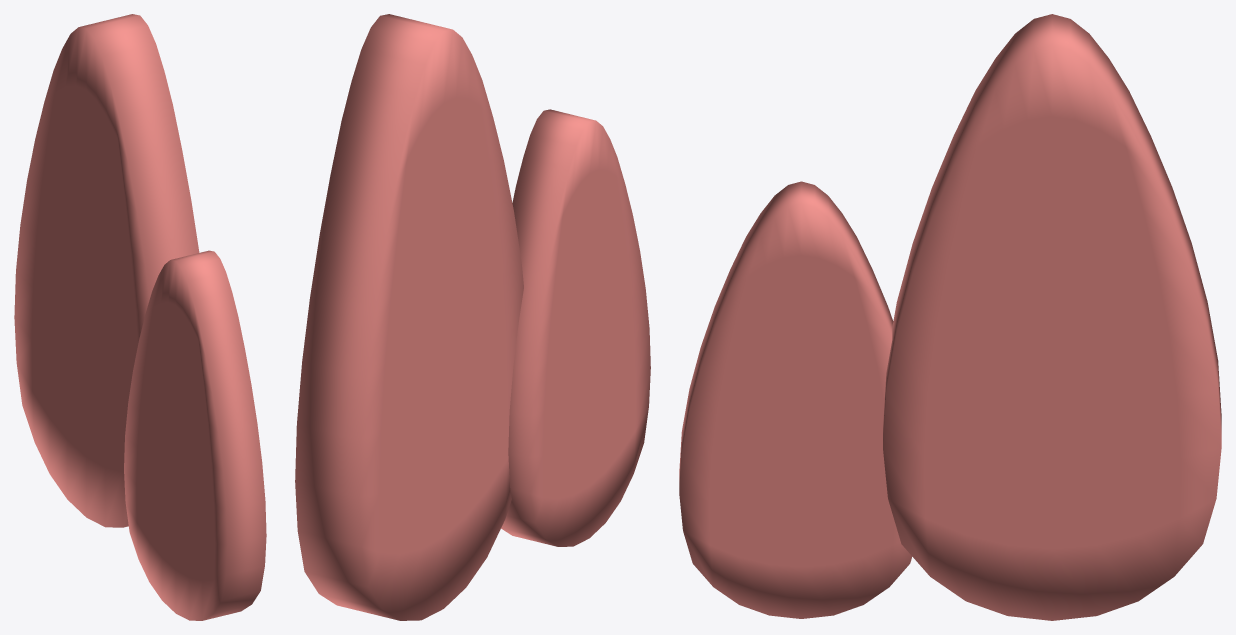
File: herbe-automne.gltf
The picture shows the model from 3 angles, left to right: view 1: azimuth 30°, elevation 25°; view 2: azimuth 150°, elevation 25°; view 3: azimuth 270°, elevation 25°; orthographic projection. The views are drawn at different scales.
Visible parts, largest first — view 1: Plane.004, Plane.005; view 2: Plane.004, Plane.005; view 3: Plane.004, Plane.005.
Boxes of the visible parts, <box> form: Plane.004: <box>14,14,199,527</box>; Plane.005: <box>124,250,266,620</box>; Plane.004: <box>295,14,523,620</box>; Plane.005: <box>501,109,650,546</box>; Plane.004: <box>883,14,1221,620</box>; Plane.005: <box>679,181,912,618</box>.
Bounding box in the file's own units: 0.0645 × 0.4367 × 0.3623.
